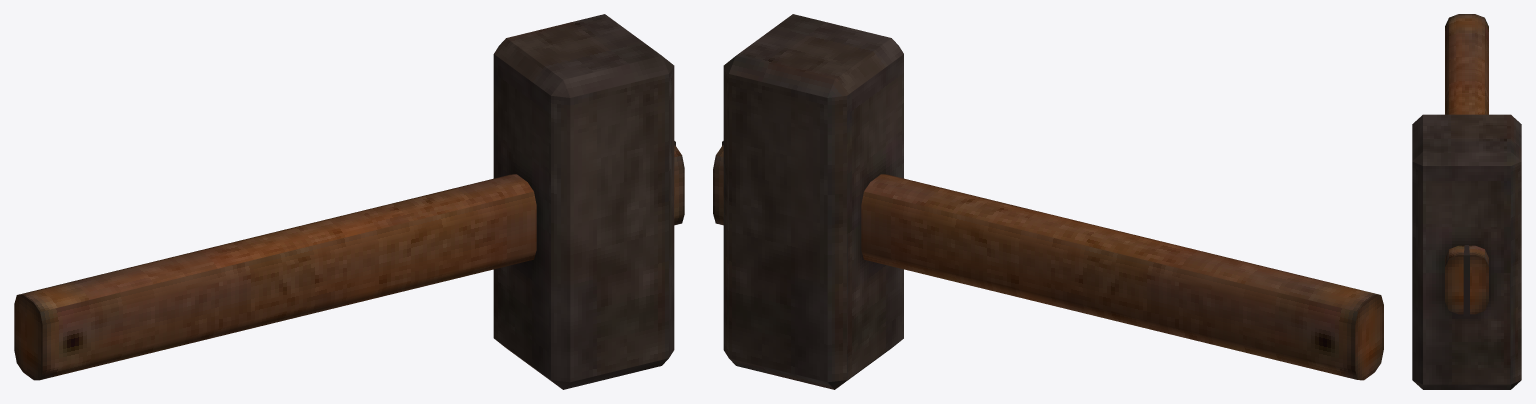
The model's file is shop-hammer.glb.
3 renders of one model, left to right at view 1: azimuth 30°, elevation 25°; view 2: azimuth 150°, elevation 25°; view 3: azimuth 270°, elevation 25°, orthographic. The views are drawn at different scales.
Parts seen in each view (by area): view 1: hammer_mx_1; view 2: hammer_mx_1; view 3: hammer_mx_1.
Boxes of the visible parts, <box> form: hammer_mx_1: <box>14,14,684,389</box>; hammer_mx_1: <box>713,14,1383,389</box>; hammer_mx_1: <box>1412,14,1521,389</box>.
Size of the model in its own units: 0.5227 by 0.24 by 0.1.
Materials: 1 (1 with a texture image).
